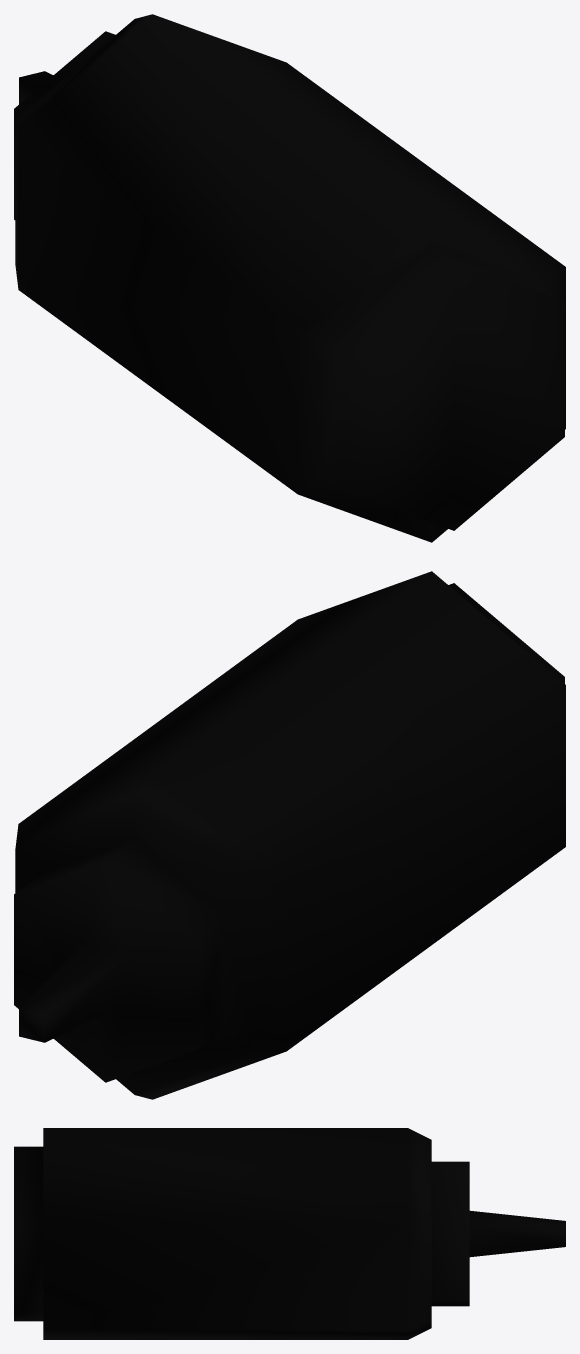
Rendered from bottle-ketchup.obj.
3 views of the same model, one above another, from view 1: azimuth 30°, elevation 25°; view 2: azimuth 150°, elevation 25°; view 3: azimuth 270°, elevation 25° (orthographic). The views are drawn at different scales.
Visible parts, largest first — view 1: bottle-ketchup; view 2: bottle-ketchup; view 3: bottle-ketchup.
Part boxes in pixels (x1,y1,x2,y2): bottle-ketchup: (14, 14, 565, 542); bottle-ketchup: (14, 571, 565, 1099); bottle-ketchup: (14, 1128, 565, 1339).
Size of the model in its own units: 0.1441 by 0.1664 by 0.3931.
